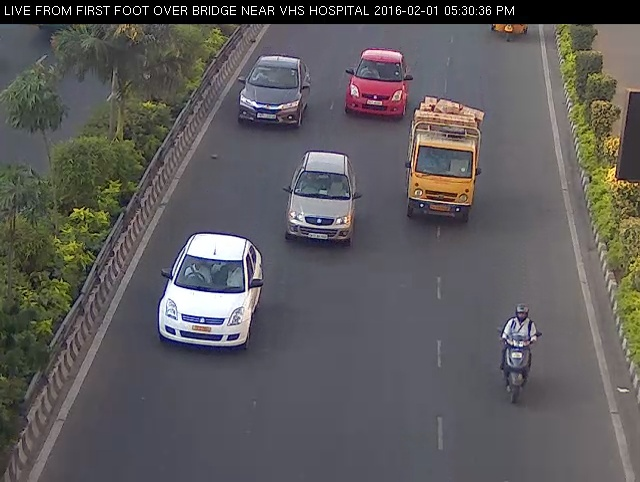Car: (153, 221, 265, 359), (394, 86, 494, 233), (272, 143, 367, 262), (237, 41, 313, 136), (333, 39, 413, 126), (480, 12, 543, 51)
Person: (489, 297, 545, 419)
